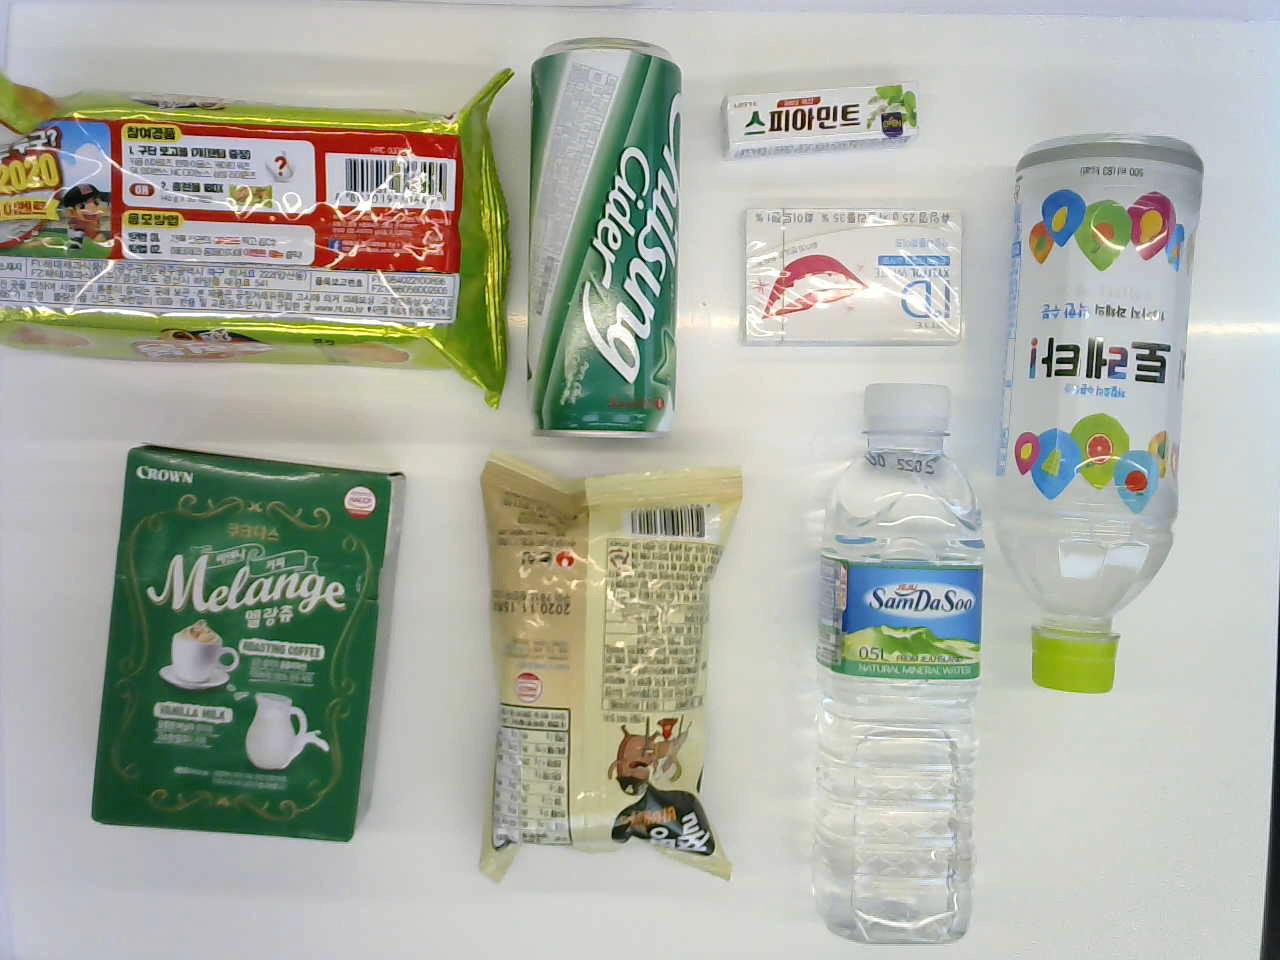ID_gum: (725, 191, 969, 354)
cidar: (513, 36, 693, 450)
couque_coffee: (100, 433, 397, 868)
homerunball: (0, 63, 515, 405)
jjolbyung_ori: (467, 432, 742, 910)
samdasu: (803, 367, 992, 952)
spearmint: (706, 73, 925, 173)
toreta: (1002, 102, 1208, 723)
